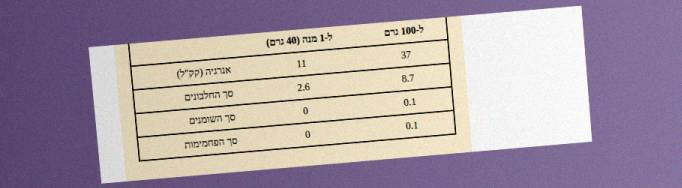carbs: (404, 118, 420, 133)
energy: (399, 48, 413, 62)
fat: (402, 95, 418, 109)
protein: (400, 71, 416, 85)
